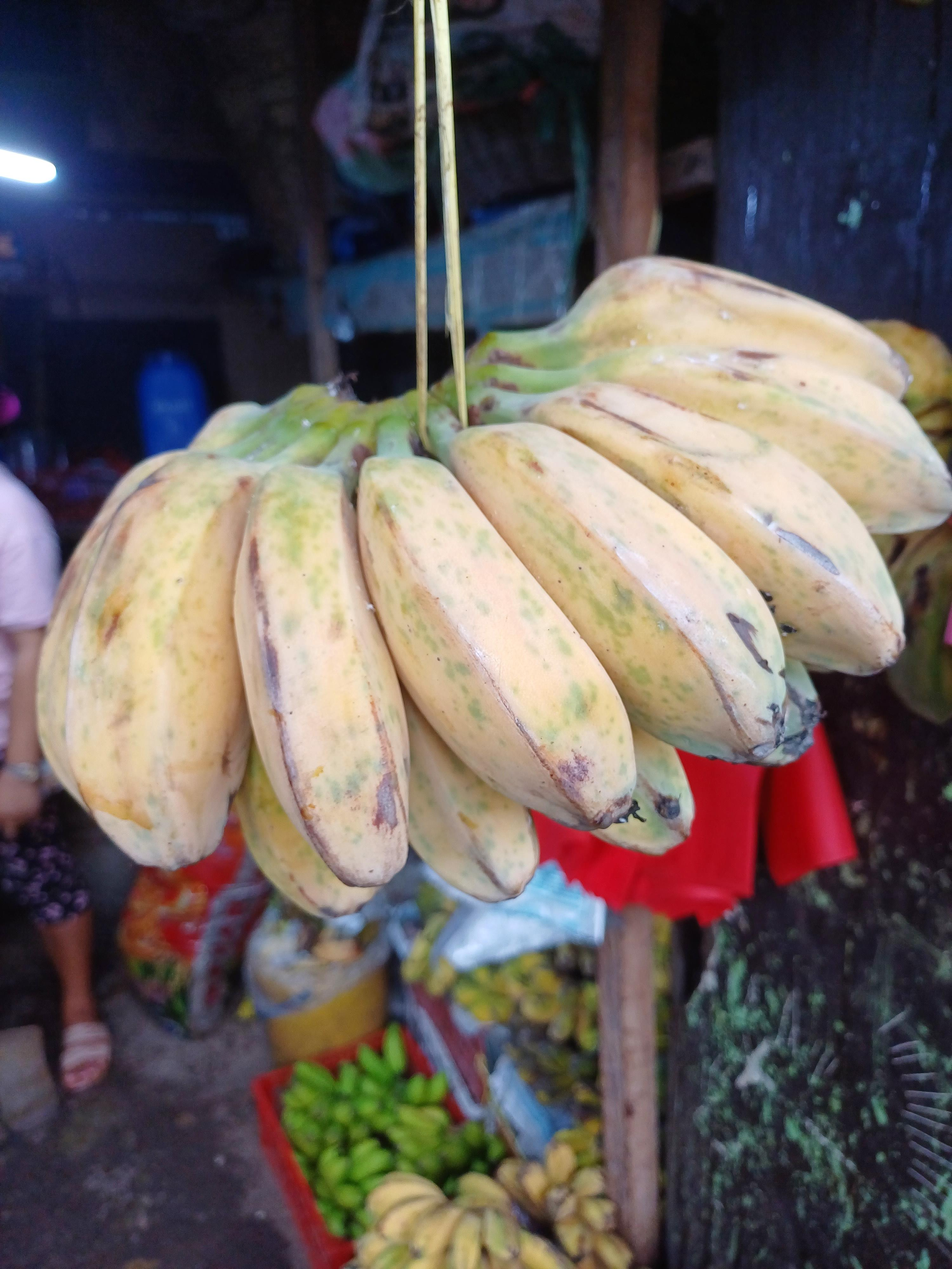underripe: (29, 255, 950, 920)
